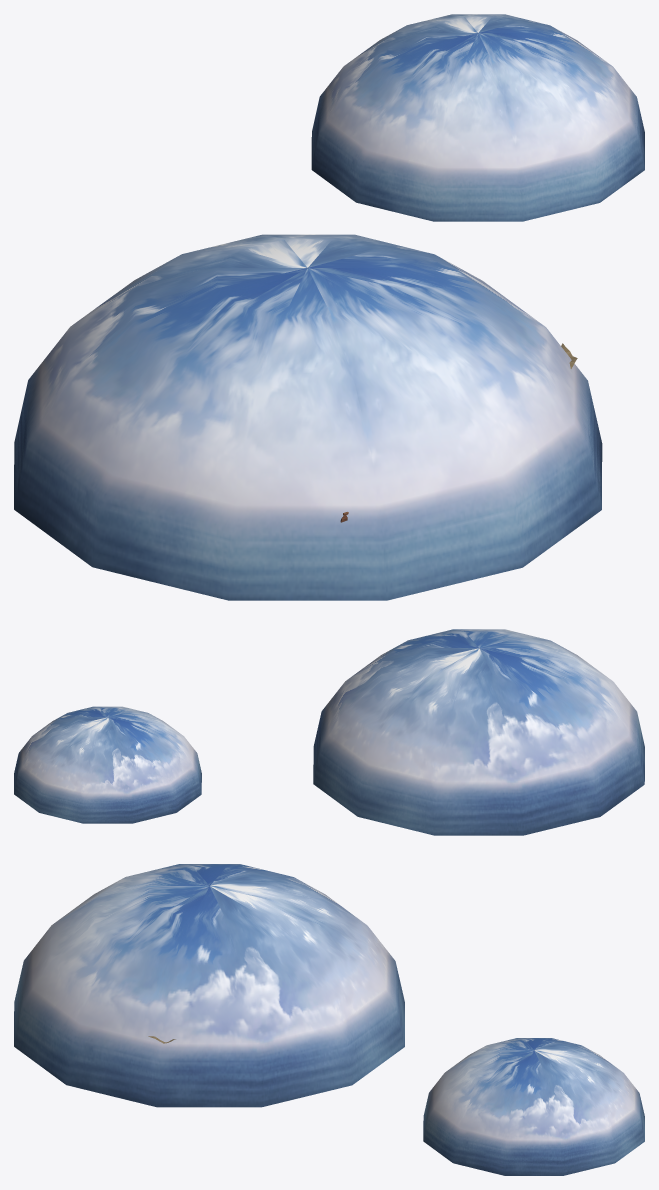
Rendered from env_pas_desert_01_pre.glb.
The picture shows the model from 3 angles, top to bottom: view 1: azimuth 30°, elevation 25°; view 2: azimuth 150°, elevation 25°; view 3: azimuth 270°, elevation 25°; orthographic projection. The views are drawn at different scales.
Parts seen in each view (by area): view 1: skybox_01_mesh (3), skybox_01_mesh (2); view 2: skybox_01_mesh (3), skybox_01_mesh (2); view 3: skybox_01_mesh (3), skybox_01_mesh (2).
Part boxes in pixels (left/top/right/bottom): skybox_01_mesh (3): left=14, top=234, right=602, bottom=600; skybox_01_mesh (2): left=311, top=14, right=644, bottom=221; skybox_01_mesh (3): left=313, top=629, right=644, bottom=835; skybox_01_mesh (2): left=14, top=706, right=201, bottom=823; skybox_01_mesh (3): left=14, top=864, right=404, bottom=1107; skybox_01_mesh (2): left=423, top=1038, right=644, bottom=1175.
Bounding box in the file's own units: 3133 × 767 × 3166.
25 materials, 25 textured.
